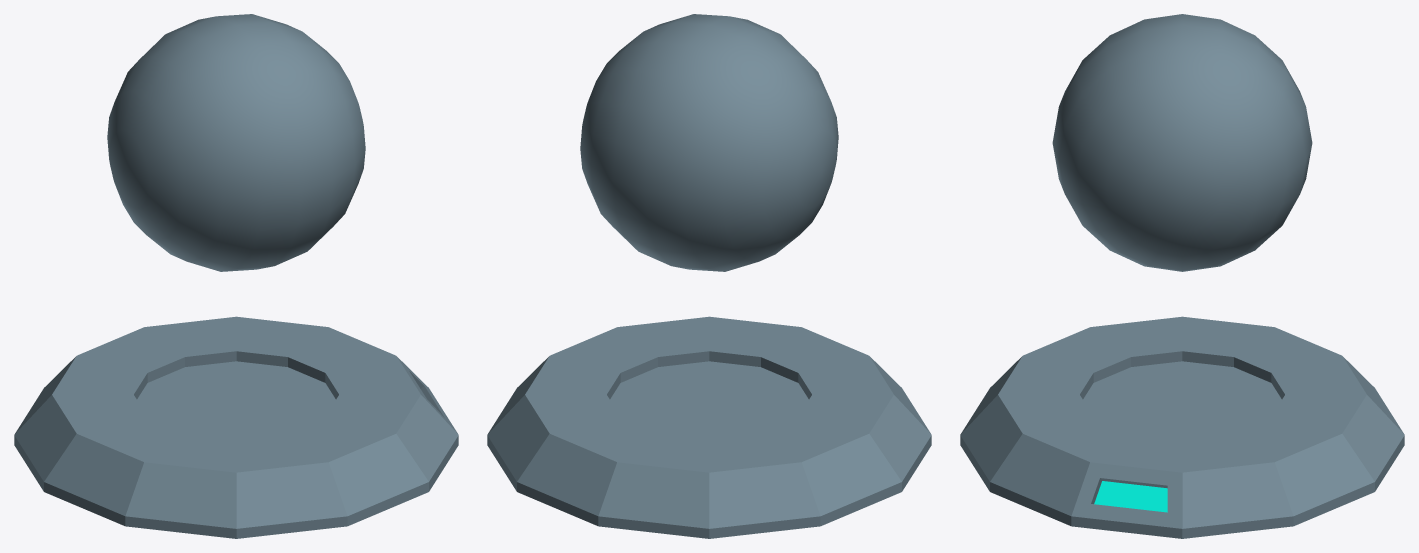
Rendered from vase-01.fbx.
3 renders of one model, left to right at view 1: azimuth 30°, elevation 25°; view 2: azimuth 150°, elevation 25°; view 3: azimuth 270°, elevation 25°, orthographic.
Visible parts, largest first — view 1: vase-01, vase-01-sphere; view 2: vase-01, vase-01-sphere; view 3: vase-01, vase-01-sphere.
Part boxes in pixels (x1,y1,x2,y2): vase-01: [14, 316, 458, 538]; vase-01-sphere: [107, 14, 365, 271]; vase-01: [487, 316, 931, 538]; vase-01-sphere: [580, 14, 838, 271]; vase-01: [960, 316, 1404, 538]; vase-01-sphere: [1052, 14, 1312, 271].
Bounding box in the file's own units: 20 × 20.84 × 20.
